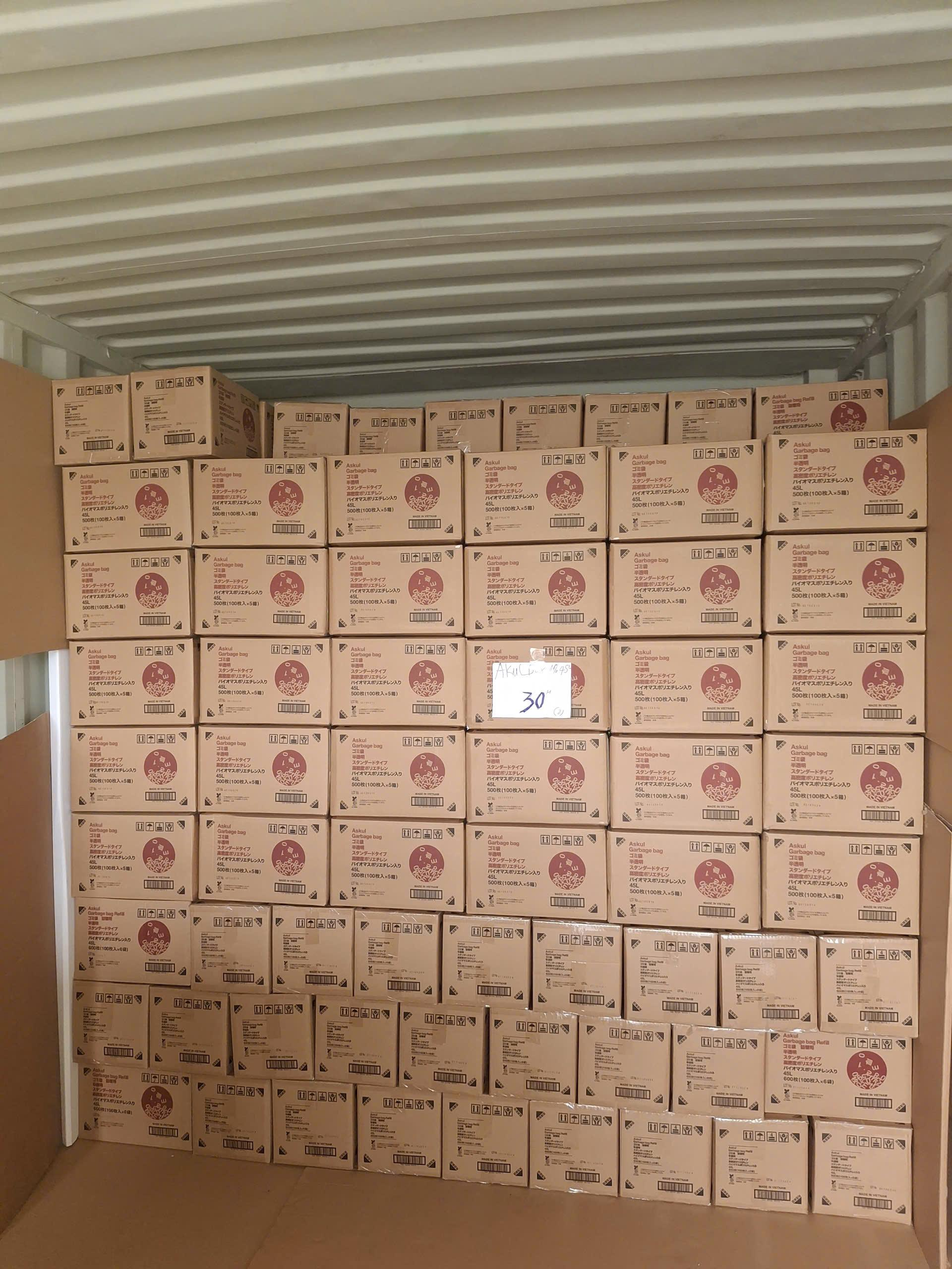carton: (763, 427, 930, 530), (766, 532, 929, 634), (607, 827, 765, 932), (763, 637, 930, 736), (762, 833, 921, 935), (608, 536, 766, 638), (765, 735, 926, 833), (609, 735, 765, 834), (607, 440, 761, 540), (466, 823, 611, 922), (769, 1026, 913, 1125), (468, 636, 613, 733), (461, 546, 611, 639), (466, 448, 606, 545), (613, 641, 761, 731), (329, 638, 471, 731), (329, 452, 464, 548), (471, 731, 605, 827), (332, 818, 469, 908), (332, 728, 467, 819), (68, 633, 195, 728), (194, 459, 329, 547), (61, 463, 191, 554), (196, 639, 334, 724), (197, 726, 328, 815), (198, 814, 326, 905), (131, 368, 256, 461), (194, 550, 332, 634), (333, 548, 462, 636), (69, 732, 195, 819), (811, 1120, 913, 1226), (64, 552, 192, 636), (817, 935, 920, 1039), (72, 812, 193, 899), (620, 923, 718, 1026), (720, 933, 821, 1032), (79, 1064, 190, 1152), (574, 1014, 670, 1113), (74, 898, 183, 985), (715, 1116, 809, 1215), (669, 1024, 765, 1120), (436, 1092, 529, 1189), (527, 1101, 620, 1194), (530, 919, 620, 1014), (485, 1008, 571, 1106), (398, 1001, 486, 1095), (623, 1110, 708, 1206), (315, 997, 402, 1088), (271, 1079, 358, 1170), (358, 1085, 441, 1180), (227, 991, 313, 1082), (444, 917, 529, 1009), (353, 912, 439, 1002), (269, 908, 355, 995), (757, 381, 891, 436), (188, 903, 270, 990), (50, 376, 132, 461), (148, 988, 229, 1074), (192, 1075, 271, 1163), (71, 980, 150, 1068), (500, 395, 587, 450), (666, 391, 752, 444), (270, 400, 350, 455), (582, 394, 662, 449), (423, 399, 496, 453), (347, 408, 421, 454)
